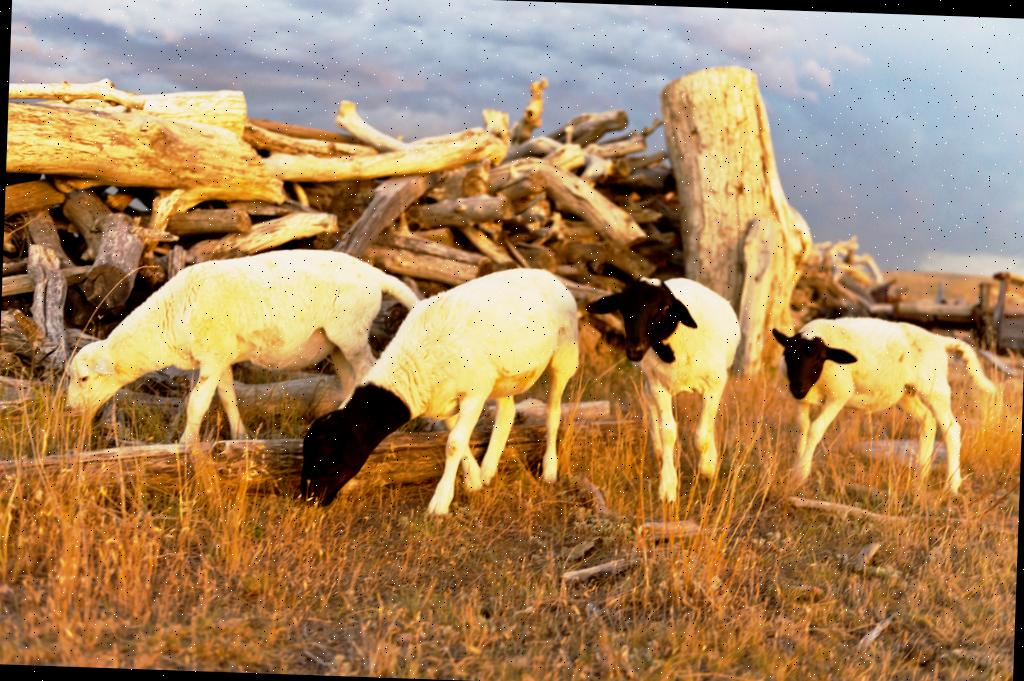Sheep: (68, 231, 412, 463), (295, 258, 586, 528), (765, 314, 999, 496), (577, 270, 745, 501)
